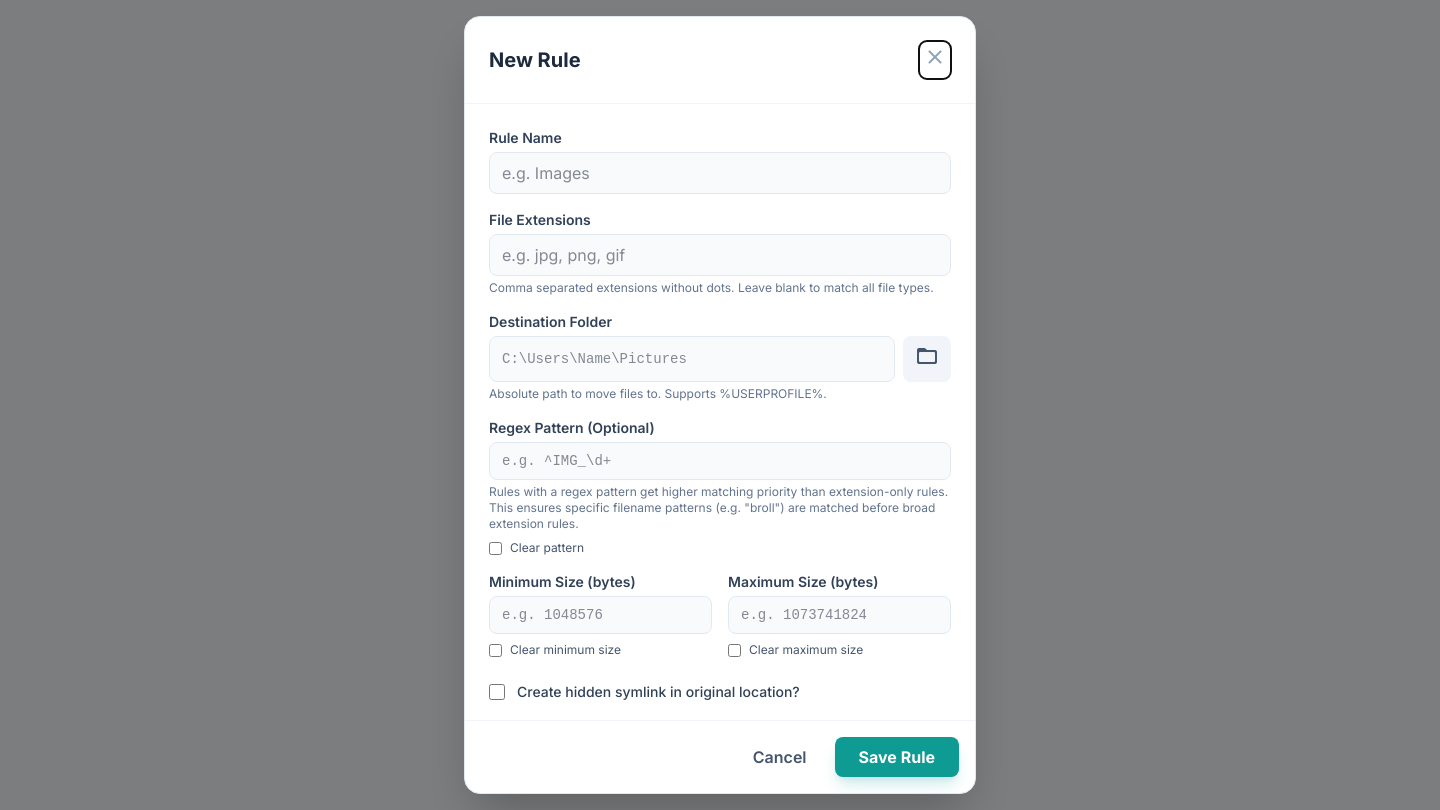
Test case: RuleModal › shows field-level size validation and blocks submit for invalid range
In the field with placeholder "e.g. Images": (720, 173) [489, 152, 951, 194], type "Docs"
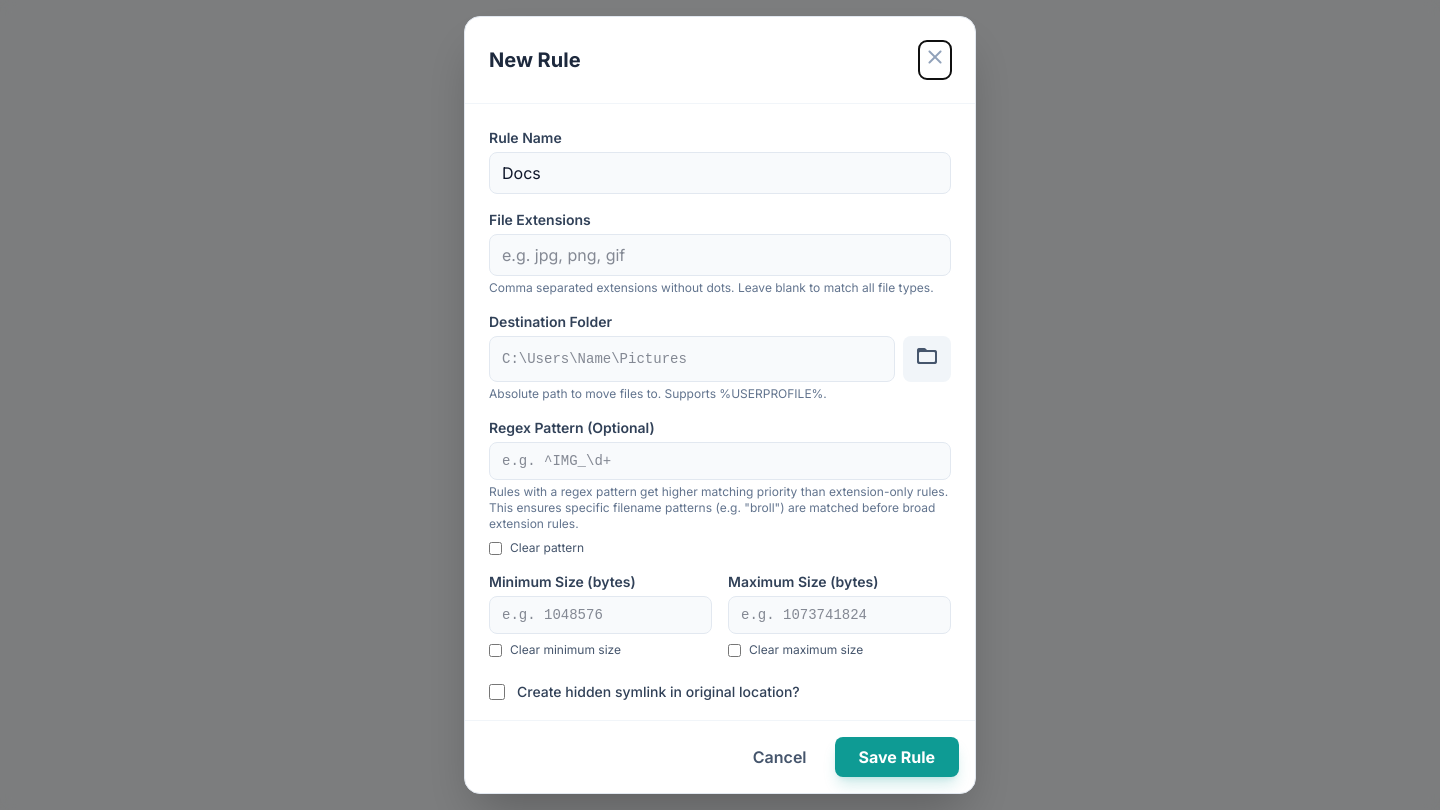
In the field with placeholder "C:\\Users\\Name\\Pictures": (692, 359) [489, 336, 895, 382], type "C:\\Docs"
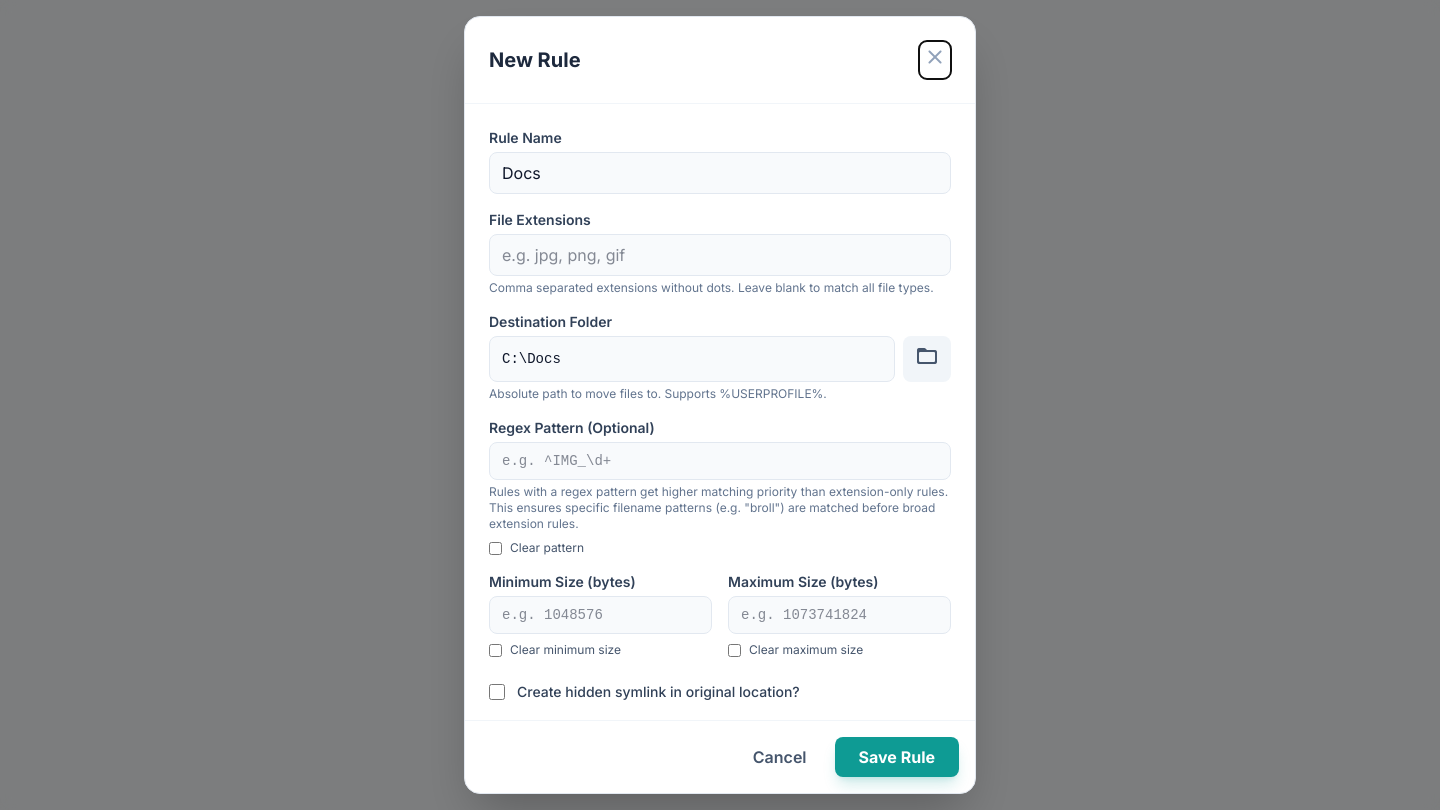
In the number field with placeholder "e.g. 1048576": (600, 615) [489, 596, 712, 634], type "200"
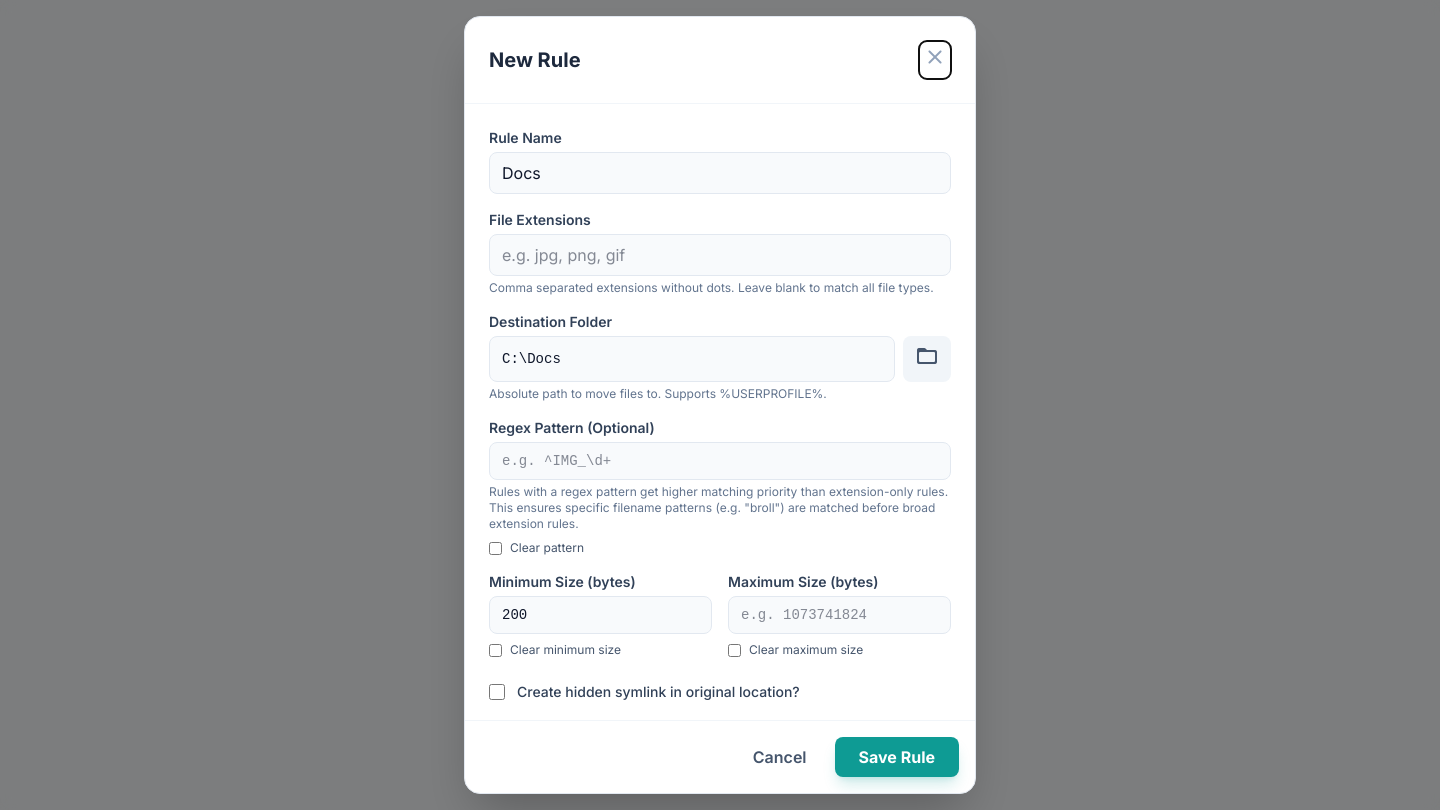
In the number field with placeholder "e.g. 1073741824": (840, 615) [728, 596, 951, 634], type "100"
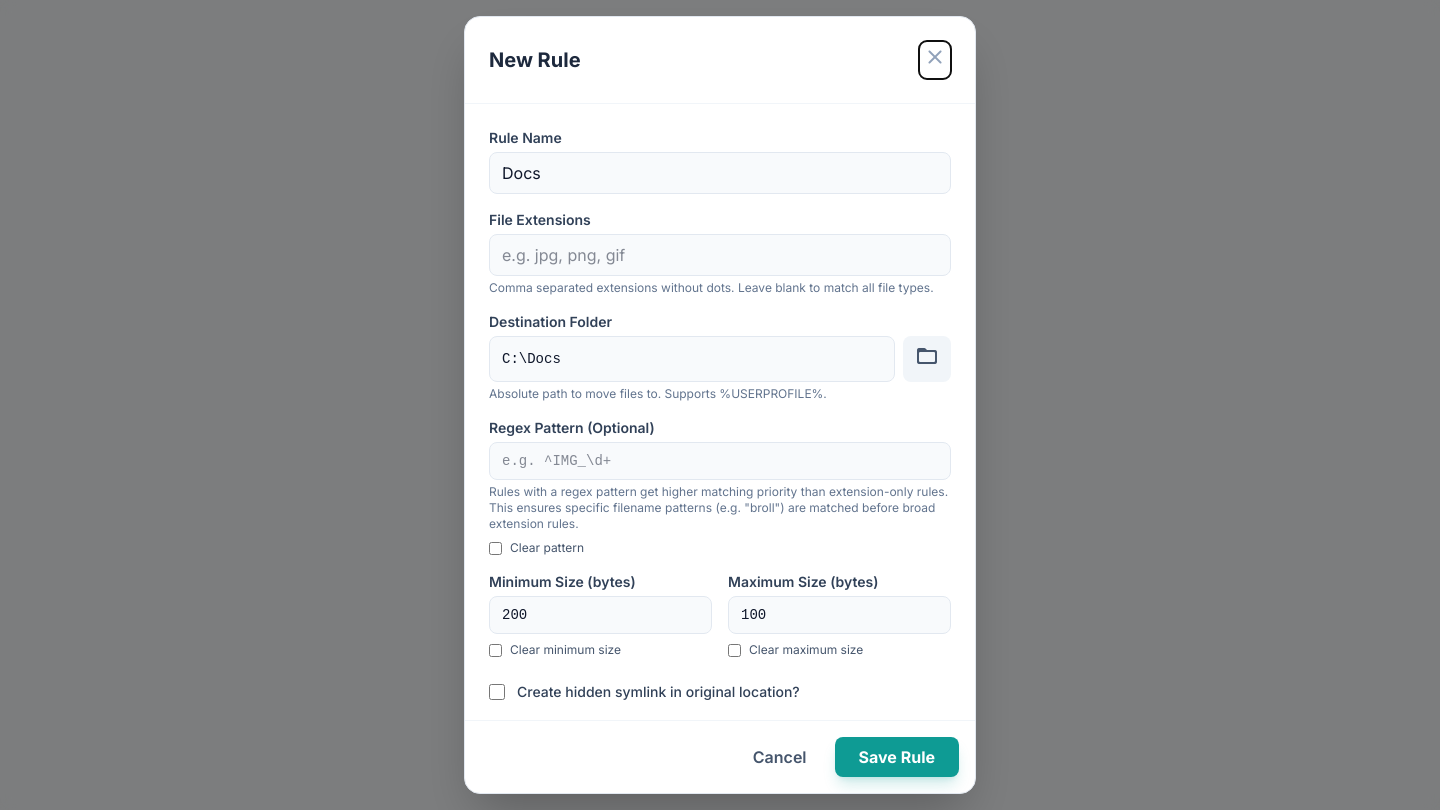
Submit the form, box [465, 104, 975, 720]
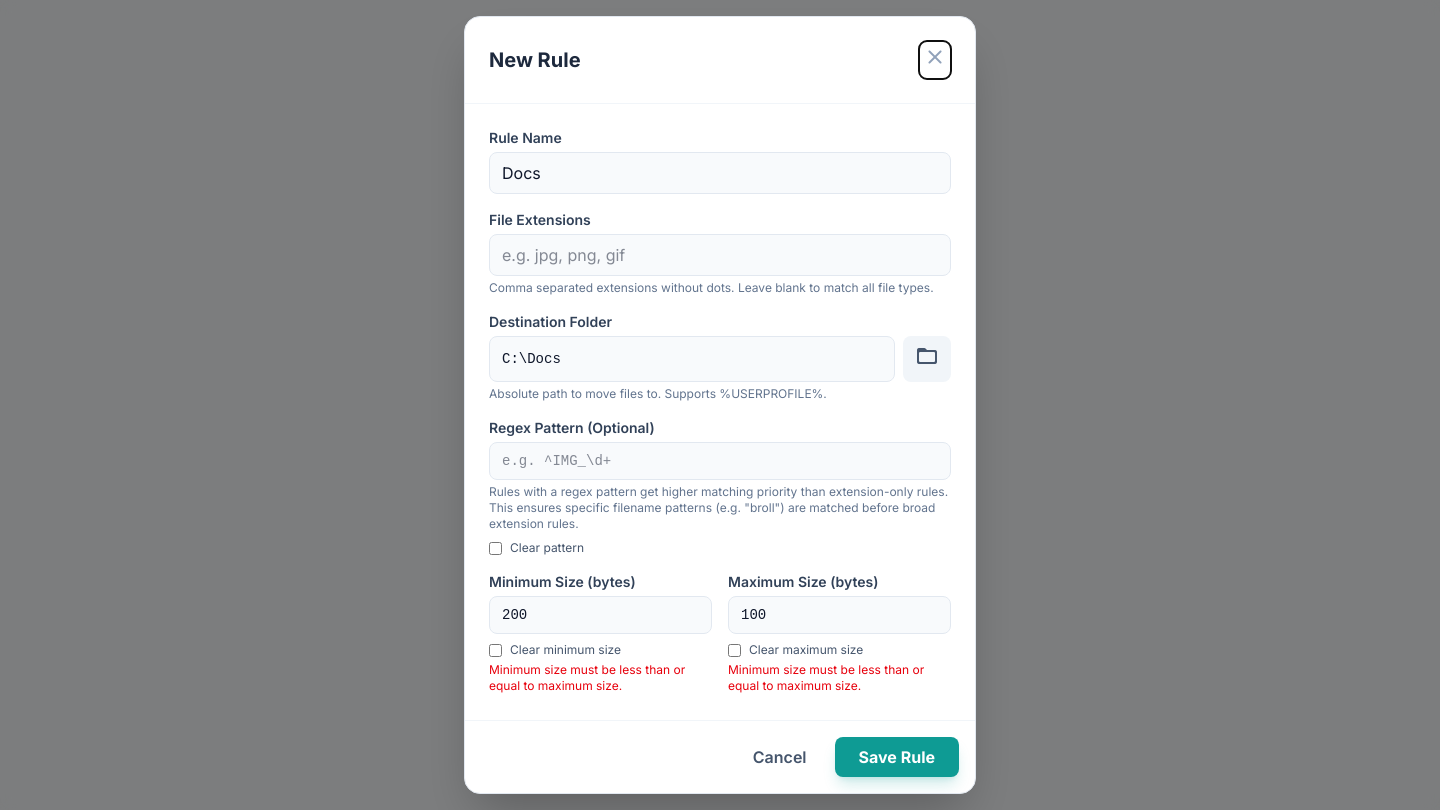
Result: the text "Minimum size must be less than or equal to maximum size." below "Clear minimum size" is shown at [489, 662, 685, 693]
